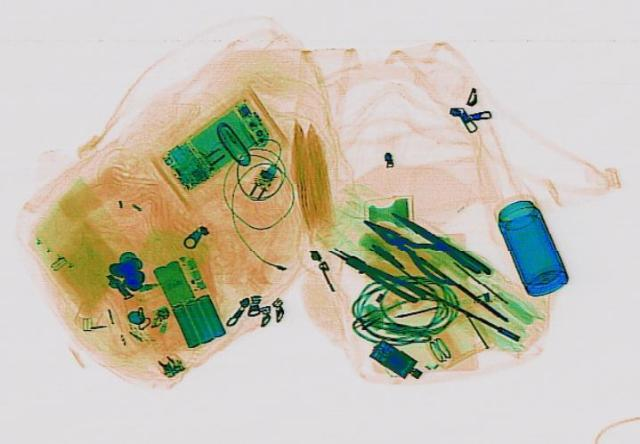Pliers: (348, 207, 478, 287), (384, 206, 494, 276), (324, 243, 428, 303)
